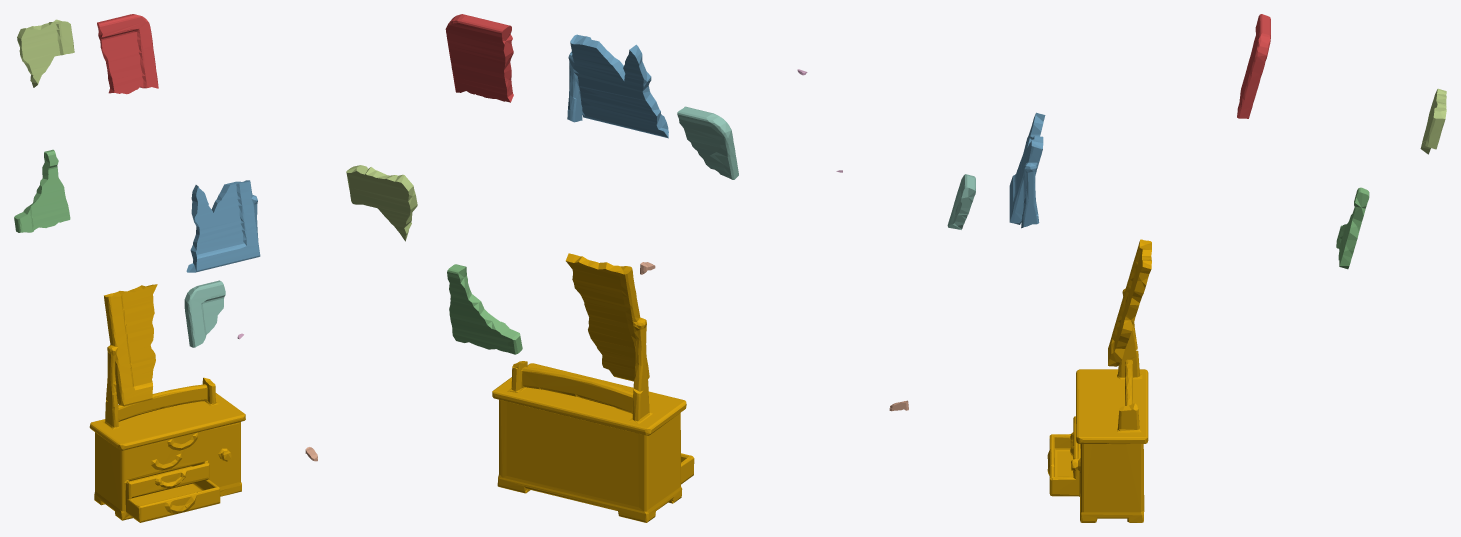
The model's file is fractured_50_8pcs_transformed.glb.
The picture shows the model from 3 angles, left to right: view 1: azimuth 30°, elevation 25°; view 2: azimuth 150°, elevation 25°; view 3: azimuth 270°, elevation 25°; orthographic projection. The views are drawn at different scales.
Parts seen in each view (by area): view 1: piece_0.obj, piece_2.obj, piece_1.obj, piece_3.obj, piece_5.obj, piece_4.obj; view 2: piece_0.obj, piece_2.obj, piece_1.obj, piece_3.obj, piece_5.obj, piece_4.obj; view 3: piece_0.obj, piece_2.obj, piece_1.obj, piece_3.obj, piece_5.obj, piece_4.obj.
Part boxes in pixels (bbox=[...]): piece_0.obj: bbox=[89, 284, 245, 522]; piece_2.obj: bbox=[186, 180, 260, 272]; piece_1.obj: bbox=[97, 14, 158, 94]; piece_3.obj: bbox=[14, 149, 70, 232]; piece_5.obj: bbox=[17, 19, 74, 87]; piece_4.obj: bbox=[184, 280, 225, 347]; piece_0.obj: bbox=[492, 253, 694, 522]; piece_2.obj: bbox=[567, 34, 668, 138]; piece_1.obj: bbox=[445, 14, 513, 102]; piece_3.obj: bbox=[447, 264, 522, 354]; piece_5.obj: bbox=[346, 165, 417, 241]; piece_4.obj: bbox=[677, 106, 738, 179]; piece_0.obj: bbox=[1047, 239, 1151, 522]; piece_2.obj: bbox=[1009, 112, 1045, 228]; piece_1.obj: bbox=[1237, 14, 1270, 118]; piece_3.obj: bbox=[1336, 187, 1369, 269]; piece_5.obj: bbox=[1420, 88, 1446, 154]; piece_4.obj: bbox=[947, 174, 975, 229].
Bounding box in the file's own units: 0.502 × 1.6 × 1.86.
